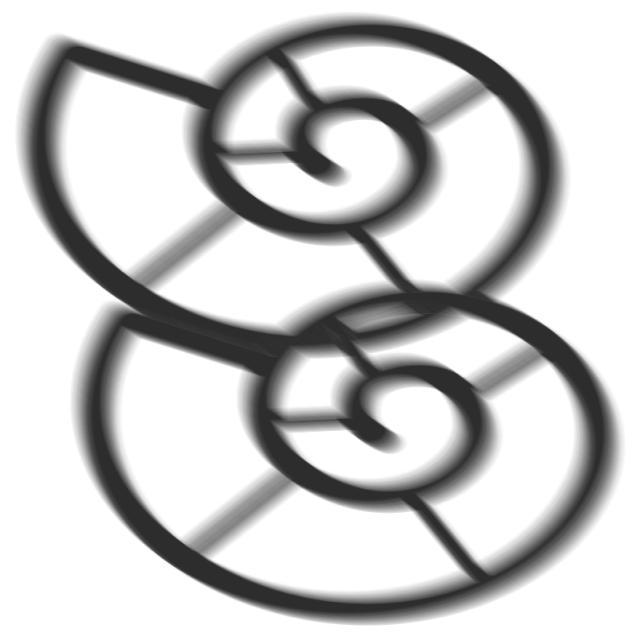fossil: (10, 5, 582, 360), (63, 280, 631, 627)
